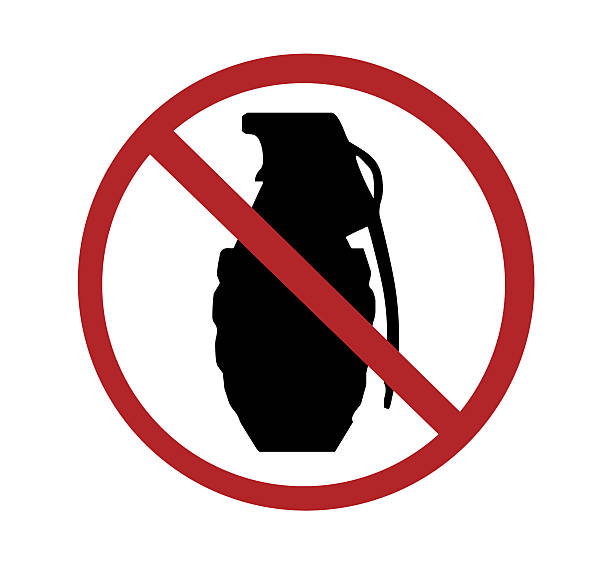e1: (215, 110, 401, 456)
